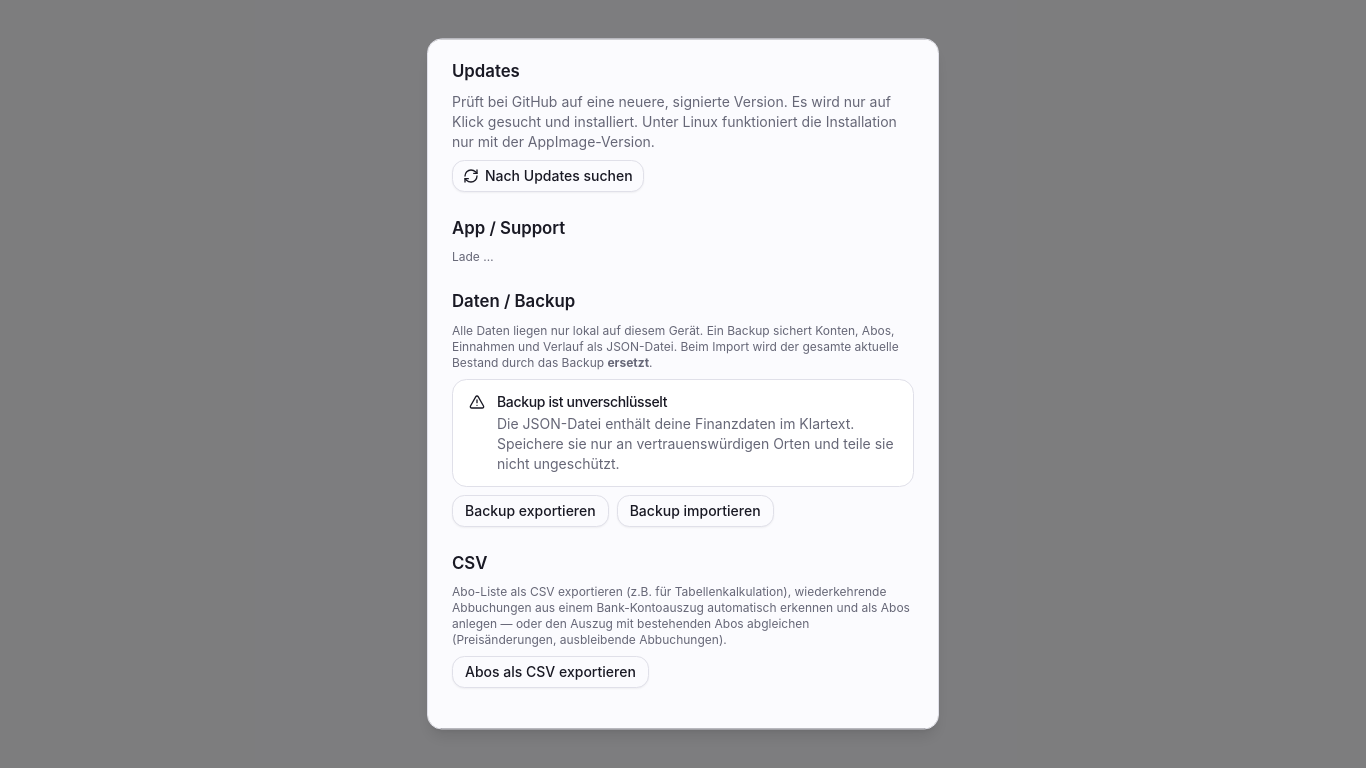
Test case: SettingsDialog › bricht den Import ab, ohne Daten anzurühren
The image size is (1366, 768).
(page scrolled)
Click the button "Backup importieren" at (695, 511), box [617, 495, 774, 527]
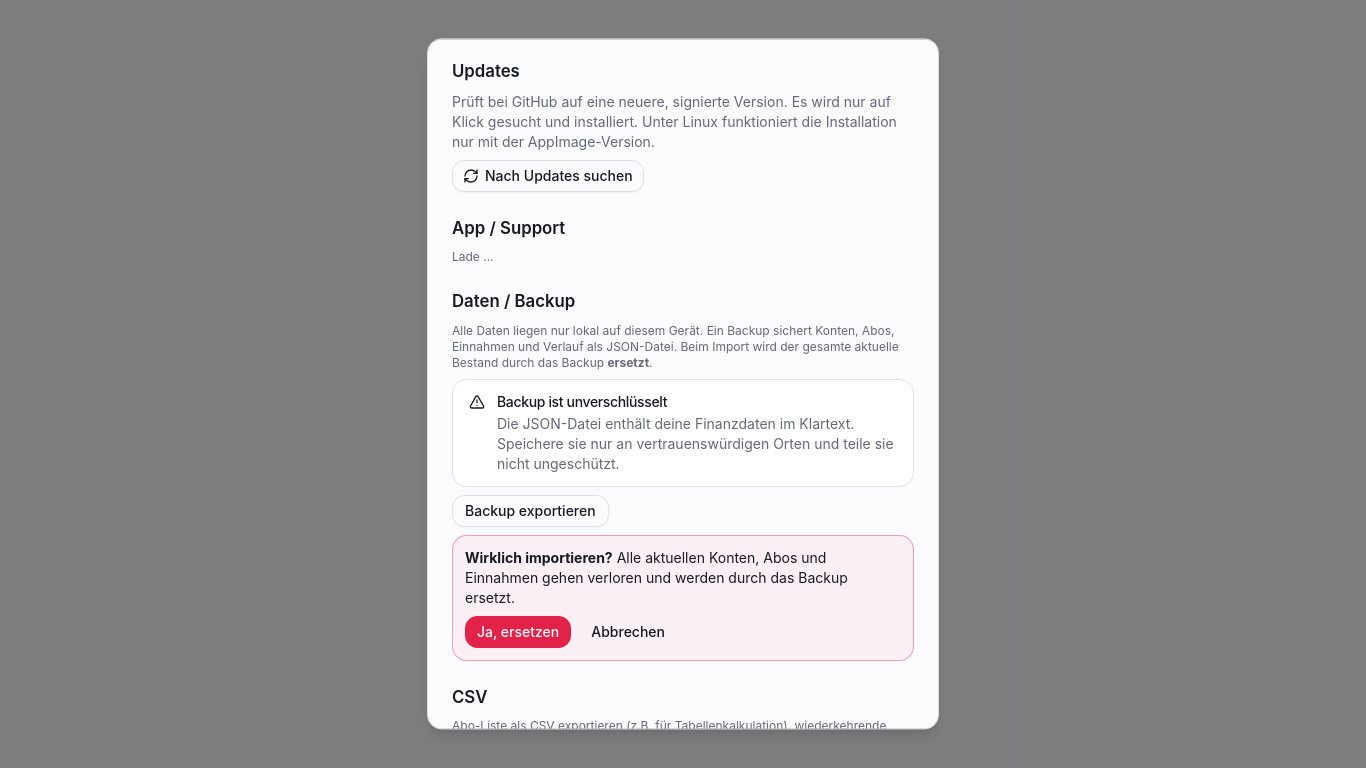
Click the button "Abbrechen" at (628, 632), box [579, 616, 677, 648]
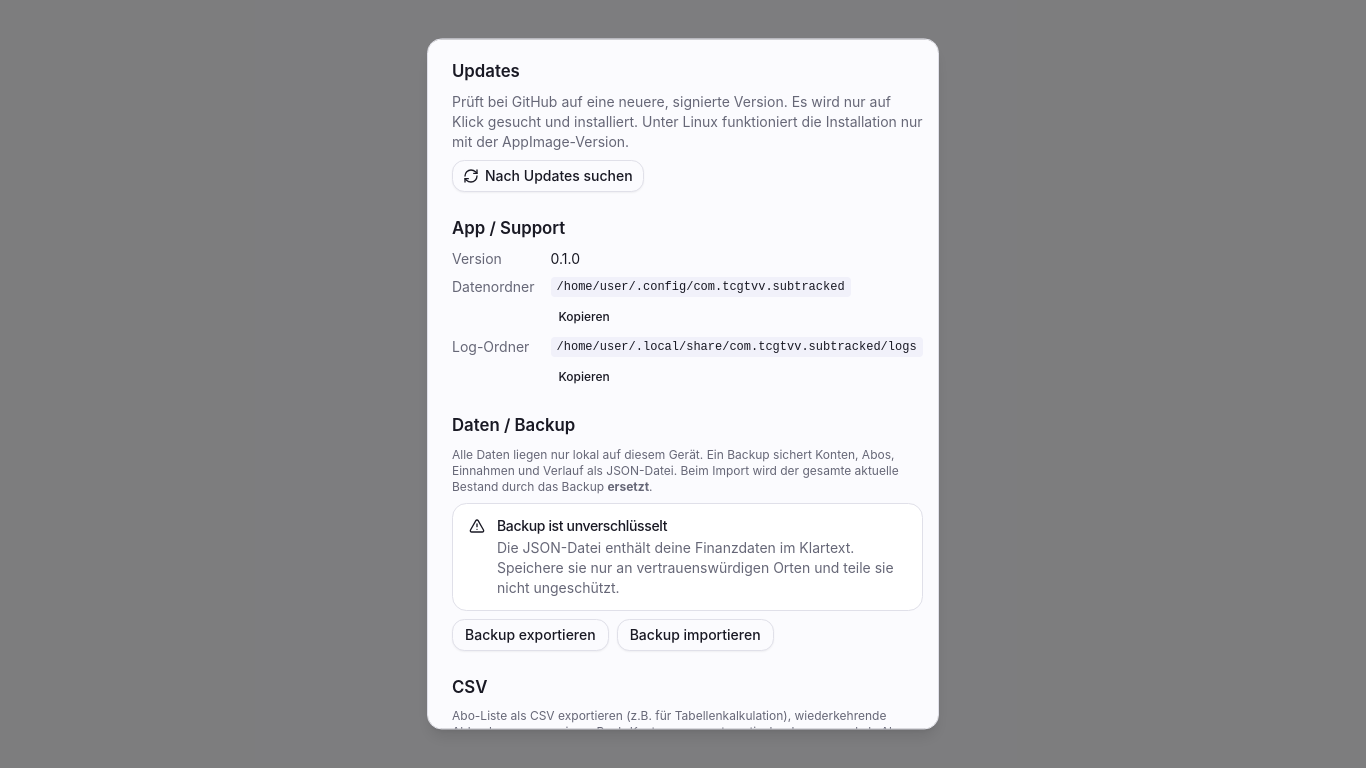
Expected: the text "Wirklich importieren?" is gone
